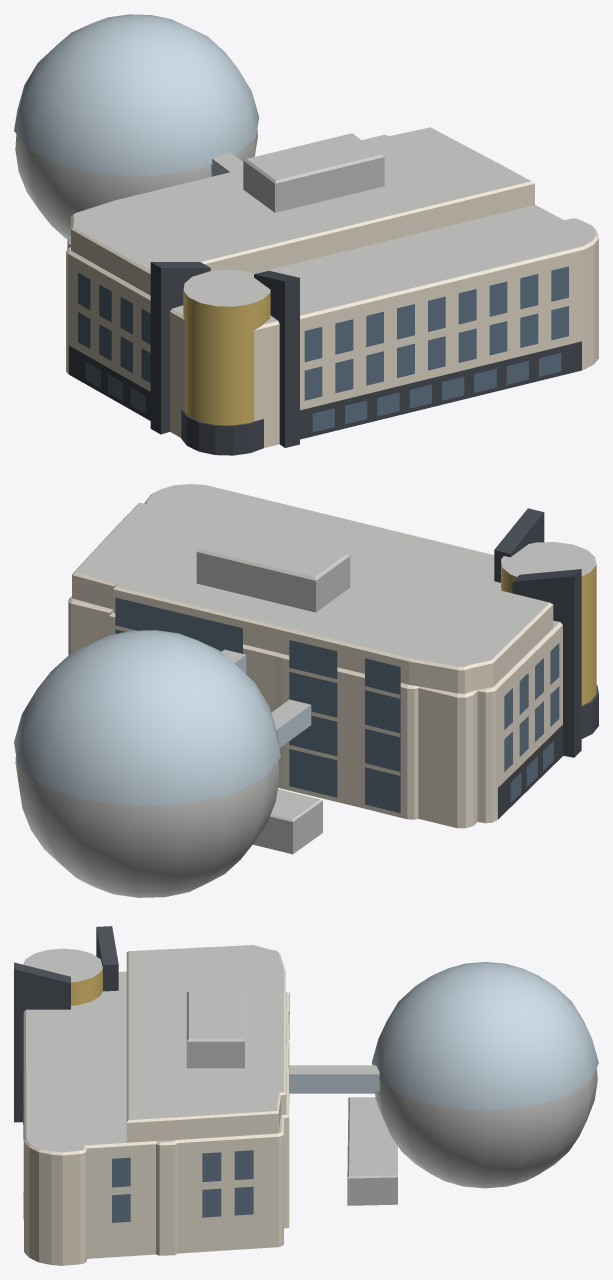
File: la-academy-museum.glb
3 renders of one model, top to bottom at view 1: azimuth 30°, elevation 25°; view 2: azimuth 150°, elevation 25°; view 3: azimuth 270°, elevation 25°, orthographic. The views are drawn at different scales.
Parts seen in each view (by area): view 1: Academy Museum of Motion Pictures; view 2: Academy Museum of Motion Pictures; view 3: Academy Museum of Motion Pictures.
Boxes of the visible parts, x1,y1,x2,y2 form: Academy Museum of Motion Pictures: (14, 14, 598, 455); Academy Museum of Motion Pictures: (14, 484, 598, 897); Academy Museum of Motion Pictures: (14, 926, 598, 1265).
Bounding box in the file's own units: 84.72 × 40 × 111.
